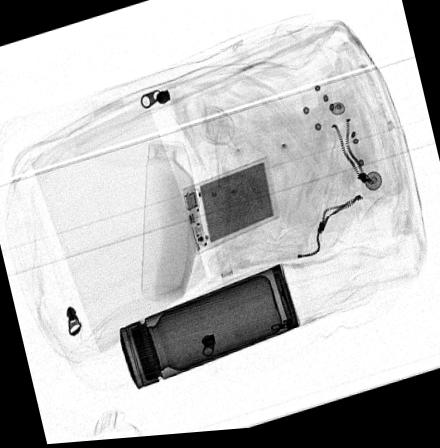Powerbank: (179, 160, 280, 258)
